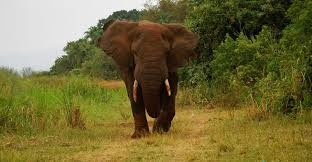elephant: (93, 15, 203, 139)
